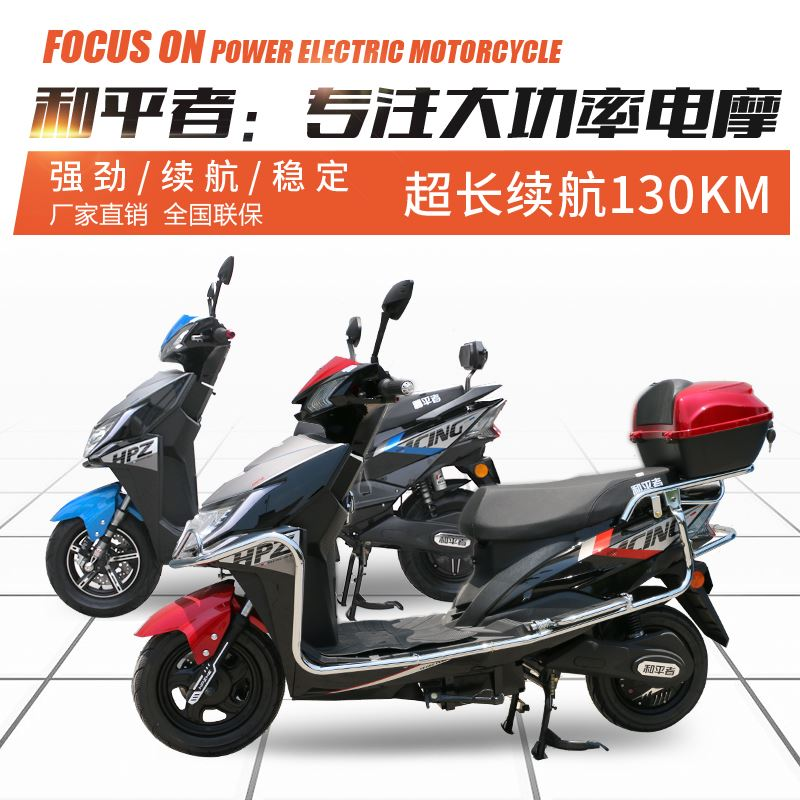电动车: (129, 271, 780, 768), (37, 250, 521, 626)
